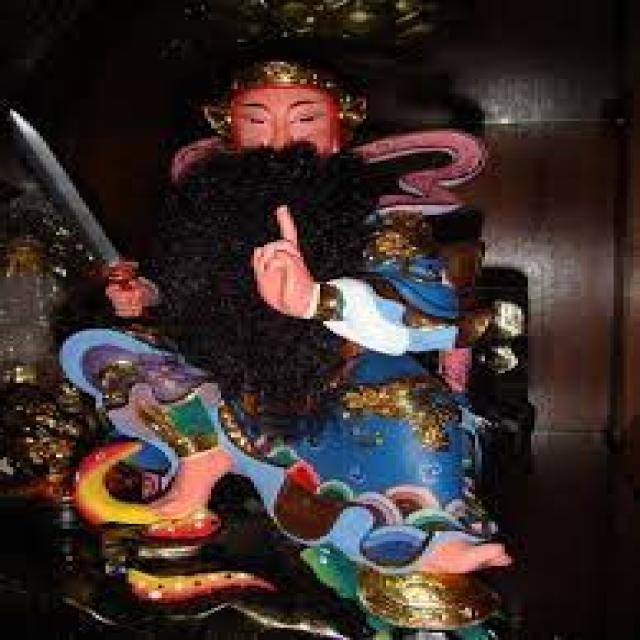Xuan wu: (92, 49, 496, 546)
